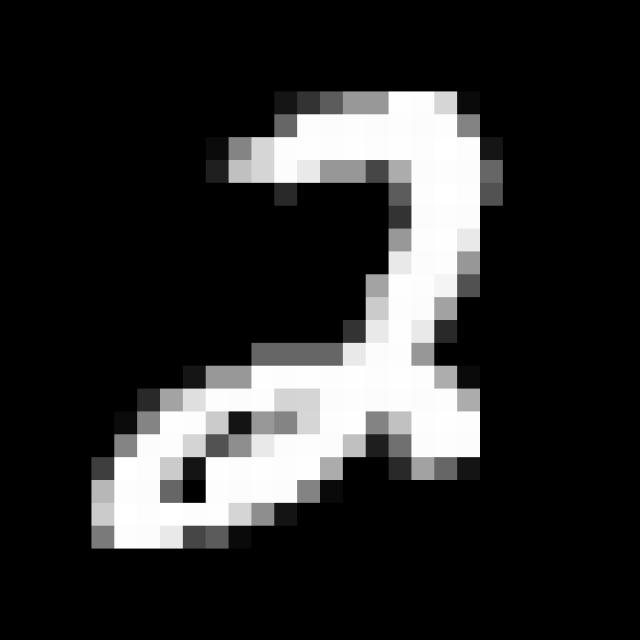two -2-: (76, 66, 514, 560)
